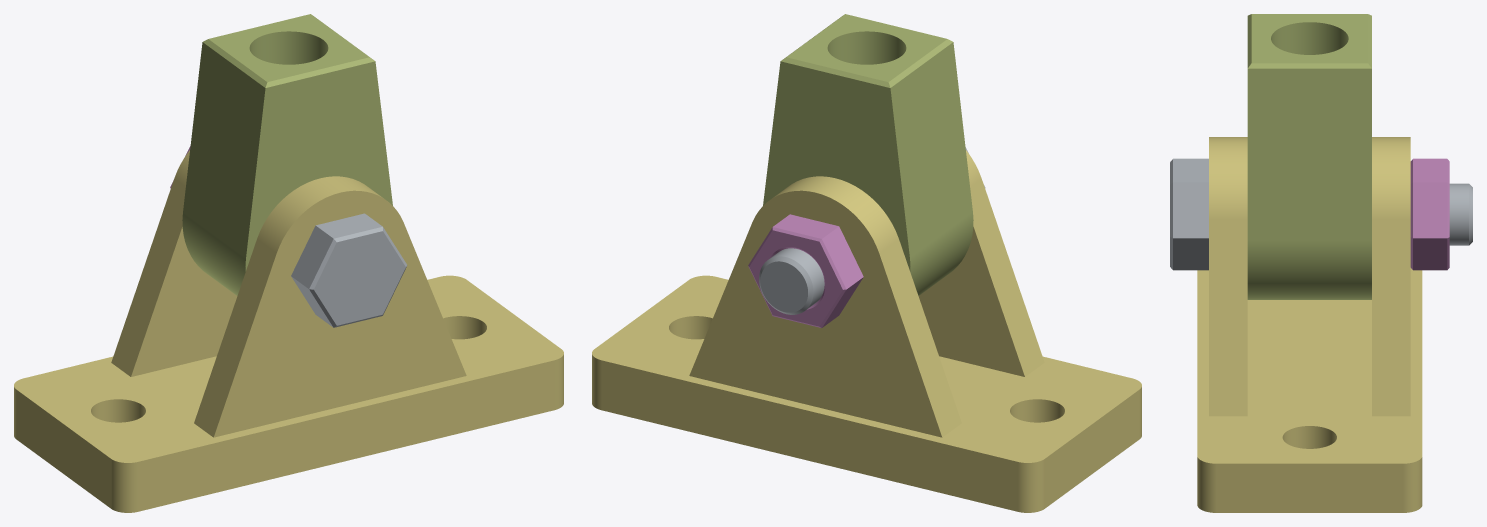
Rendered from step_19.glb.
3 renders of one model, left to right at view 1: azimuth 30°, elevation 25°; view 2: azimuth 150°, elevation 25°; view 3: azimuth 270°, elevation 25°, orthographic.
Visible parts, largest first — view 1: part__base, part__swivel, part__bolt M16 x 2.0 x 68; view 2: part__base, part__swivel, part__standard nut M16 x 2.0, part__bolt M16 x 2.0 x 68; view 3: part__base, part__swivel, part__bolt M16 x 2.0 x 68, part__standard nut M16 x 2.0.
Boxes of the visible parts, x1,y1,x2,y2 form: part__base: (14, 150, 563, 512); part__swivel: (182, 14, 392, 295); part__bolt M16 x 2.0 x 68: (291, 213, 407, 327); part__base: (592, 150, 1141, 512); part__swivel: (763, 14, 973, 295); part__standard nut M16 x 2.0: (748, 214, 863, 327); part__bolt M16 x 2.0 x 68: (759, 147, 985, 314); part__base: (1197, 137, 1422, 512); part__swivel: (1247, 14, 1371, 299); part__bolt M16 x 2.0 x 68: (1170, 158, 1472, 270); part__standard nut M16 x 2.0: (1410, 158, 1449, 270).
Bounding box in the file's own units: 132 × 104 × 78.
